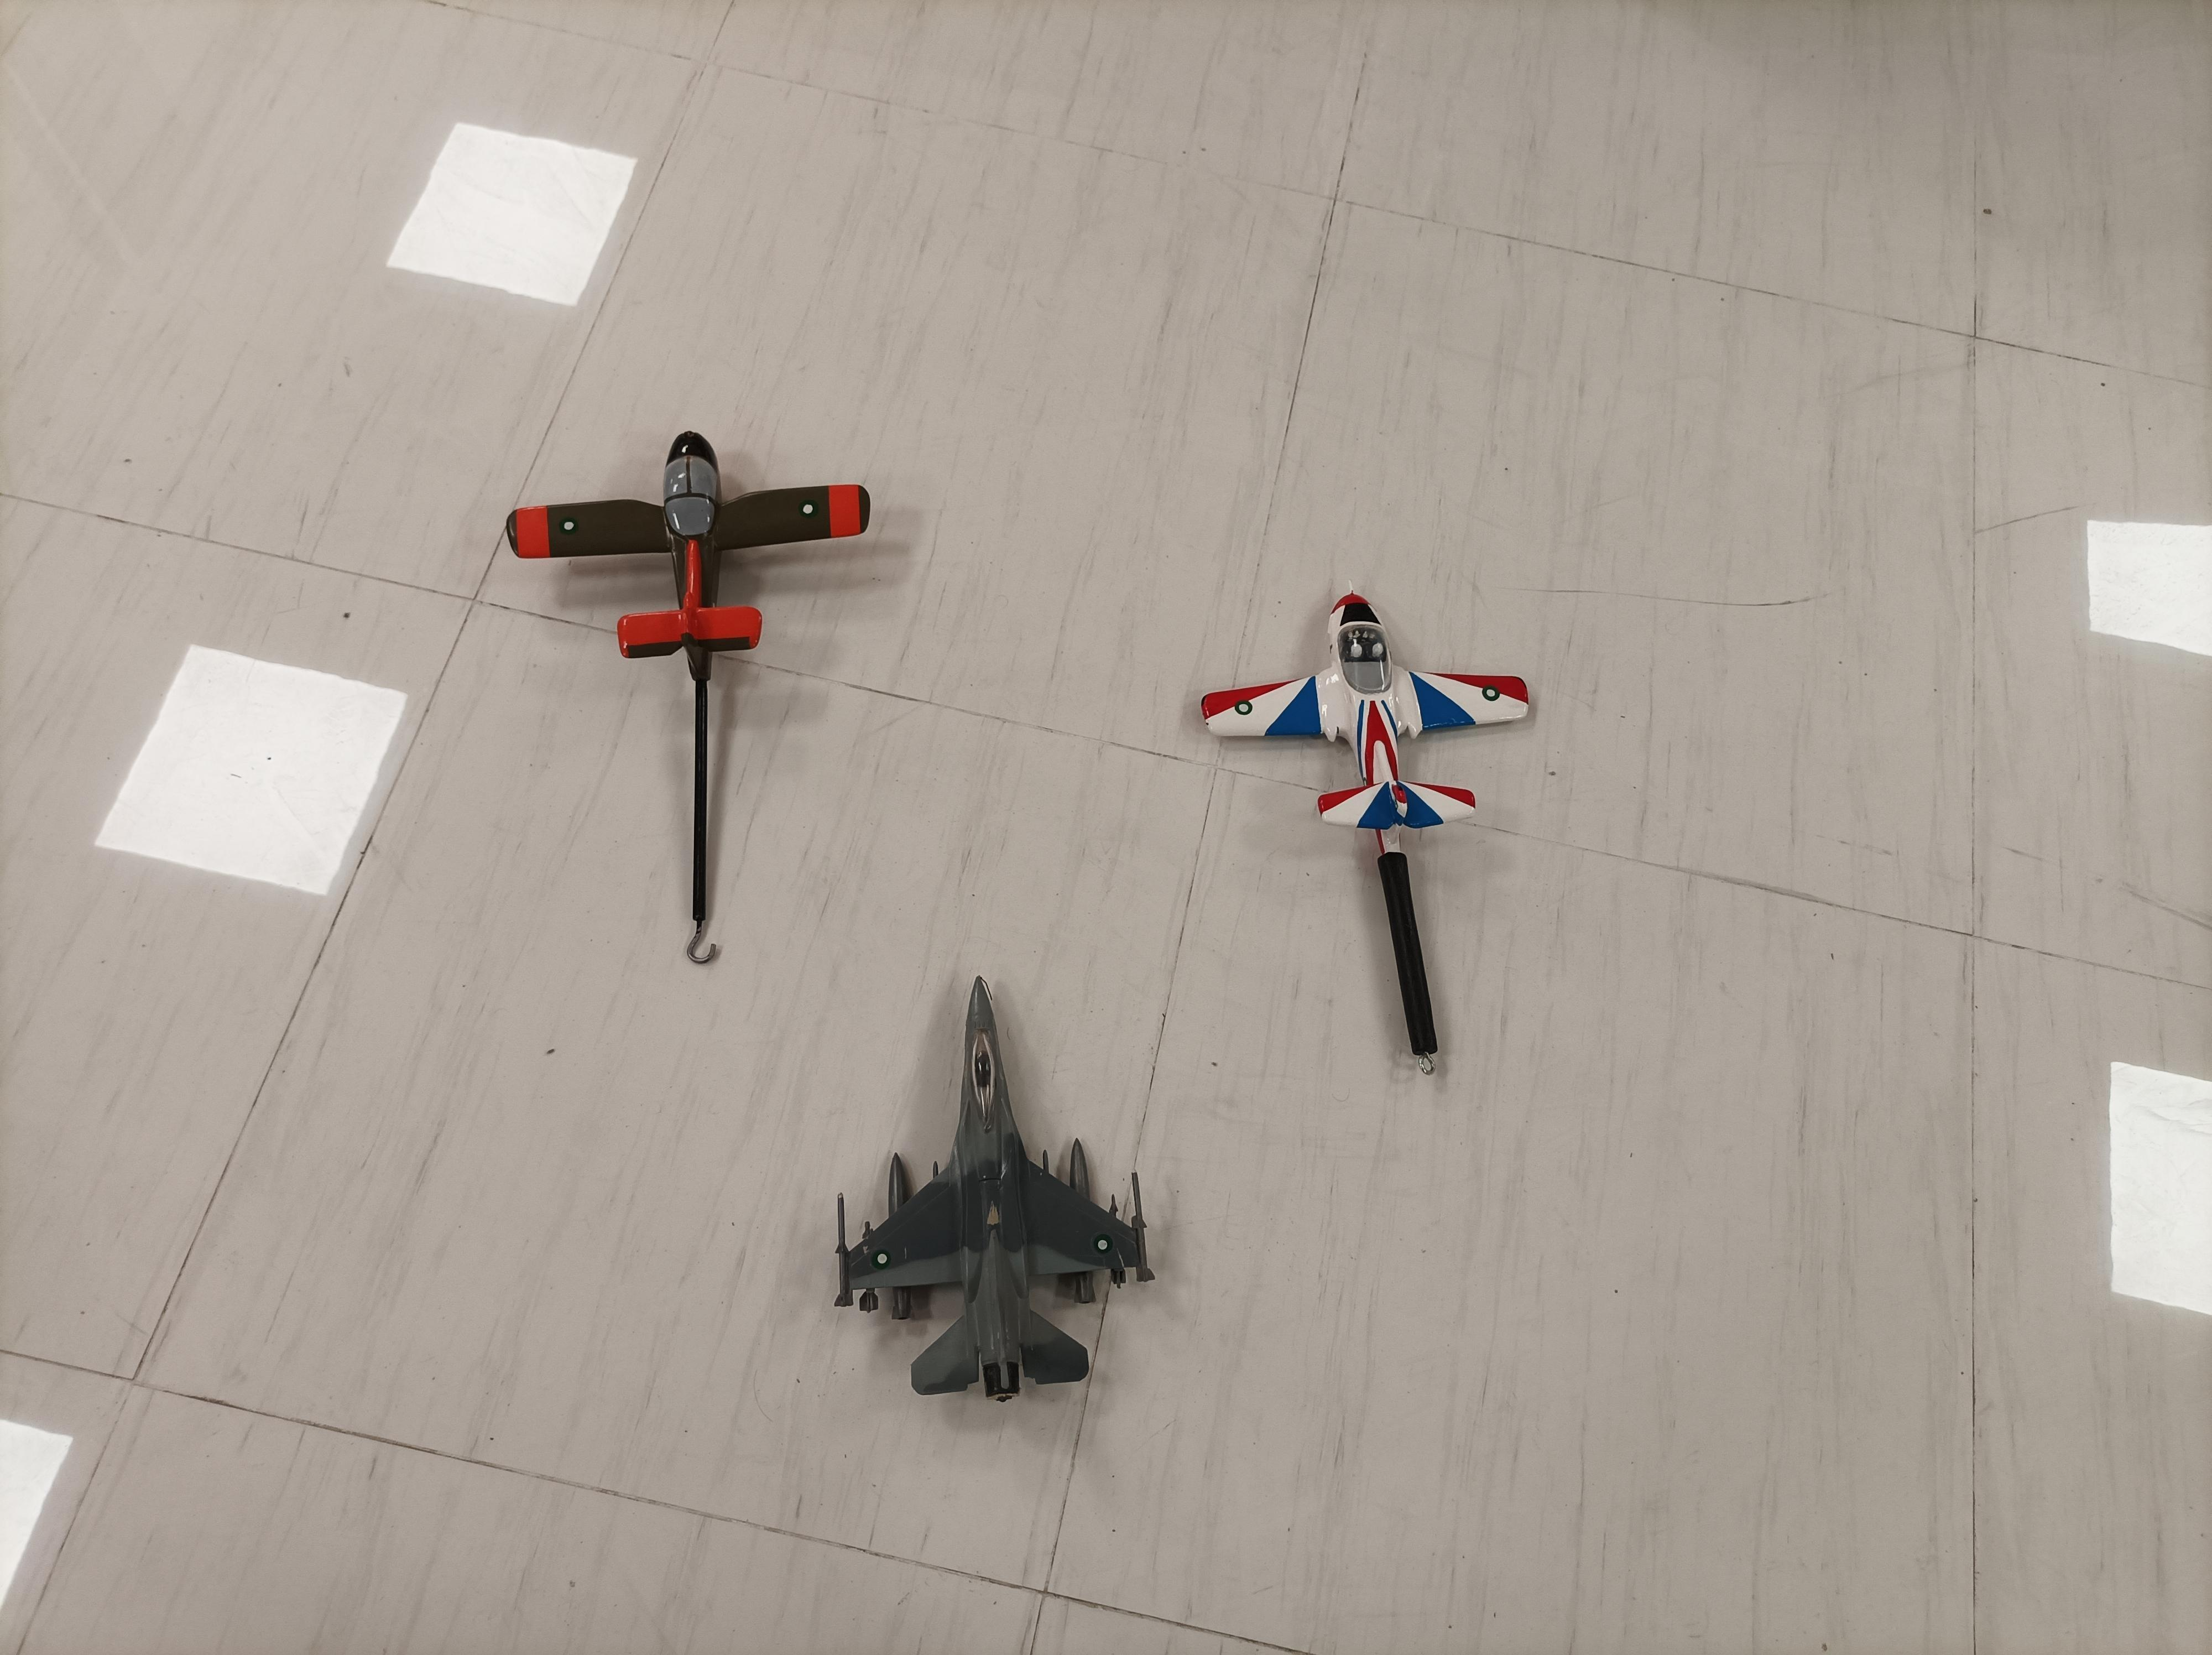Airplane: (810, 960, 1187, 1424), (1173, 575, 1553, 880), (495, 417, 898, 675)
